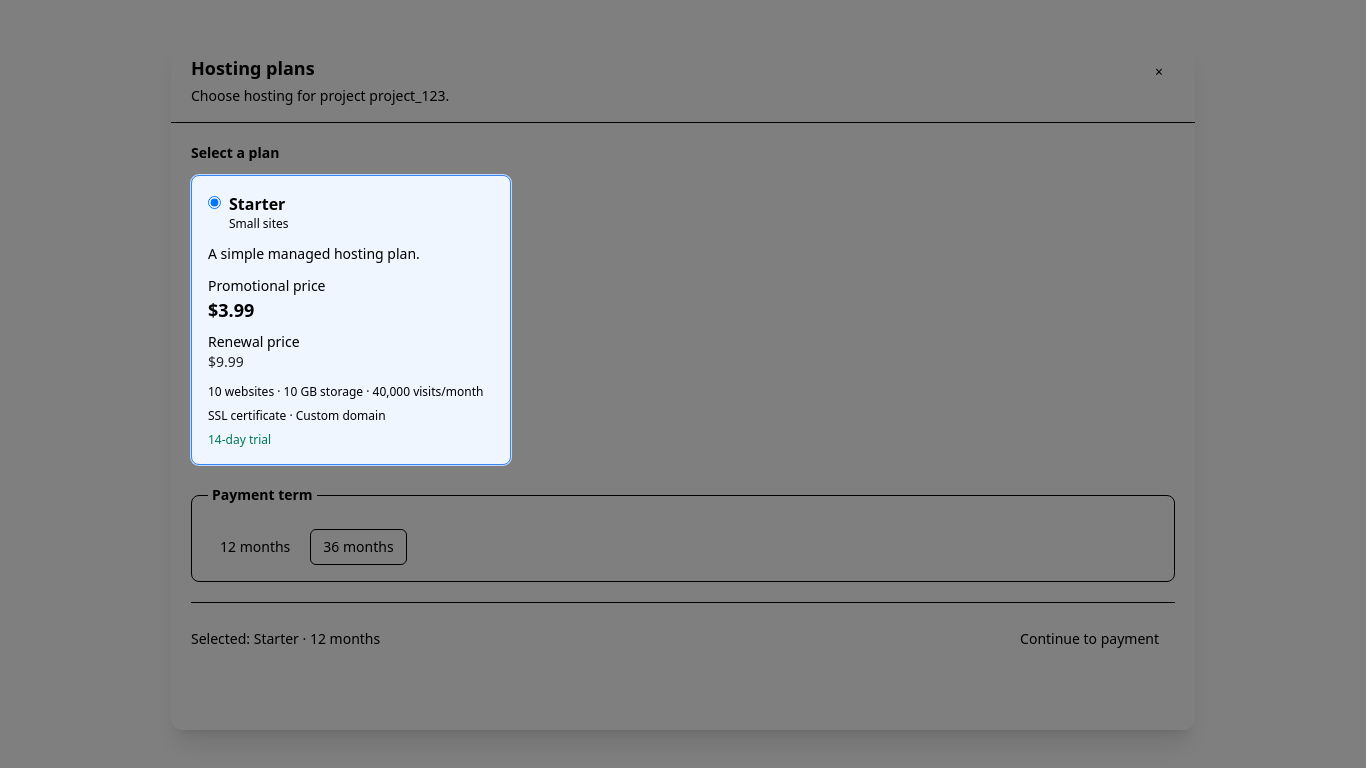
Test: PlanSelector › passes the selected 12 or 36 month term when creating checkout
Click the button "36 months". click: [358, 547]
box: [310, 529, 407, 565]
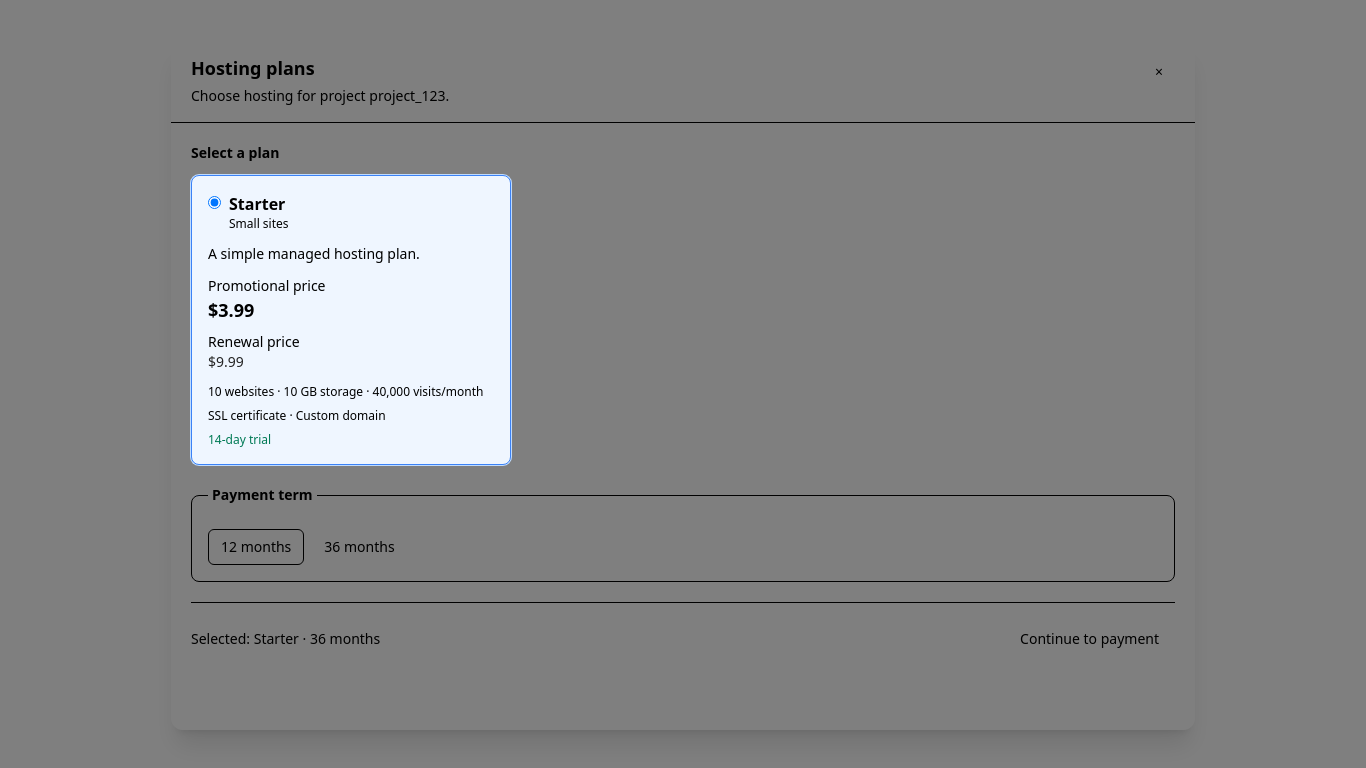
Click the button "Continue to payment". click: [1090, 639]
box: [1004, 619, 1175, 659]
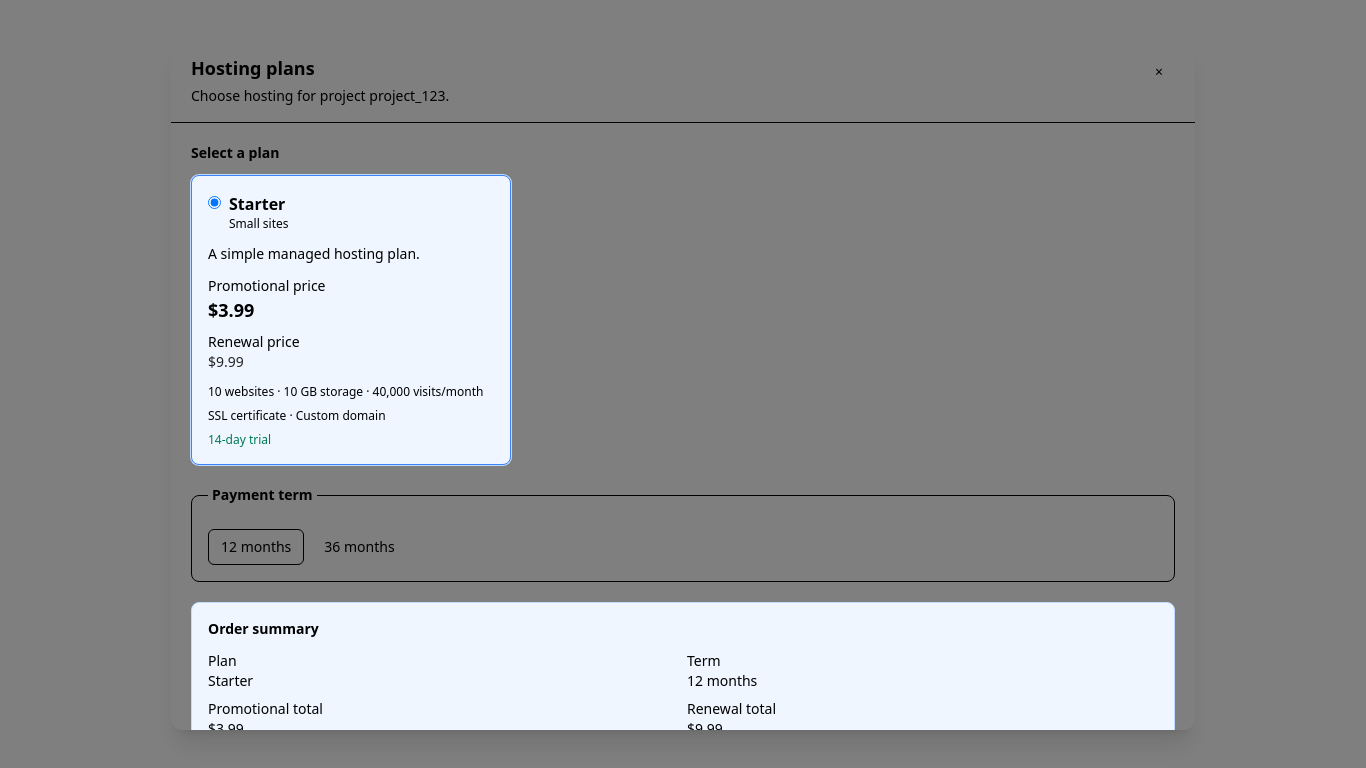
expect the text "$3.99" is shown: met, box [208, 298, 254, 322]
expect the text "Order summary" is shown: met, box [208, 619, 319, 638]
